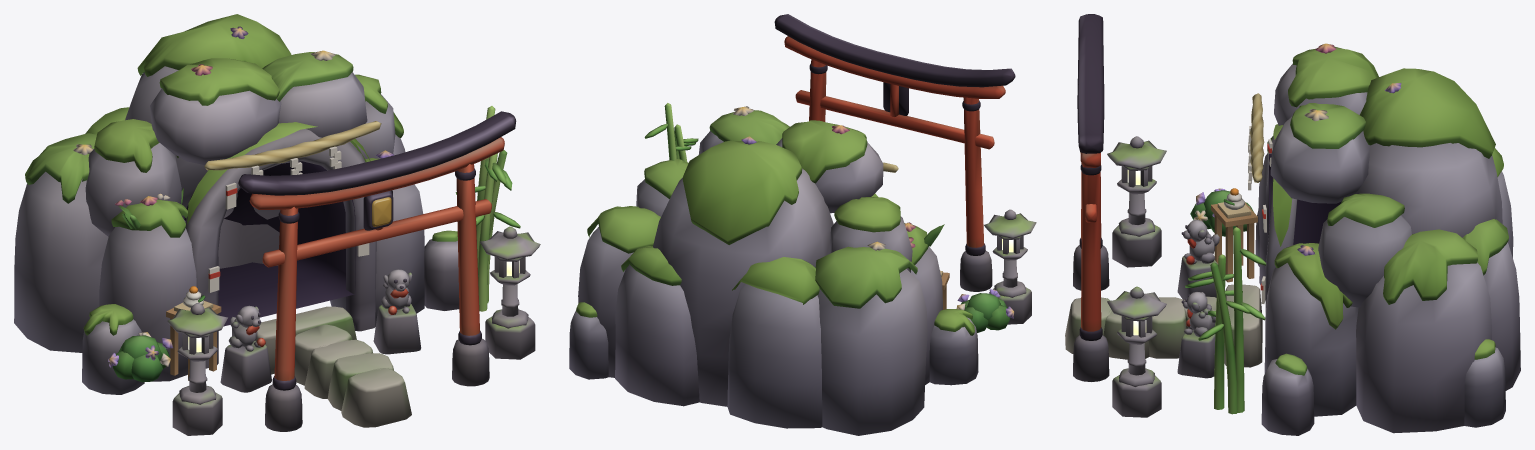
The model's file is burrowGate.glb.
3 views of the same model, side by side, from view 1: azimuth 30°, elevation 25°; view 2: azimuth 150°, elevation 25°; view 3: azimuth 270°, elevation 25° (orthographic). The views are drawn at different scales.
Visible parts, largest first — view 1: burrowGate; view 2: burrowGate; view 3: burrowGate.
Part boxes in pixels (box(x1,y1,x2,y2)): burrowGate: box(14, 14, 540, 435); burrowGate: box(569, 14, 1036, 435); burrowGate: box(1065, 14, 1520, 435).
Size of the model in its own units: 3.99 by 2.61 by 3.97.
